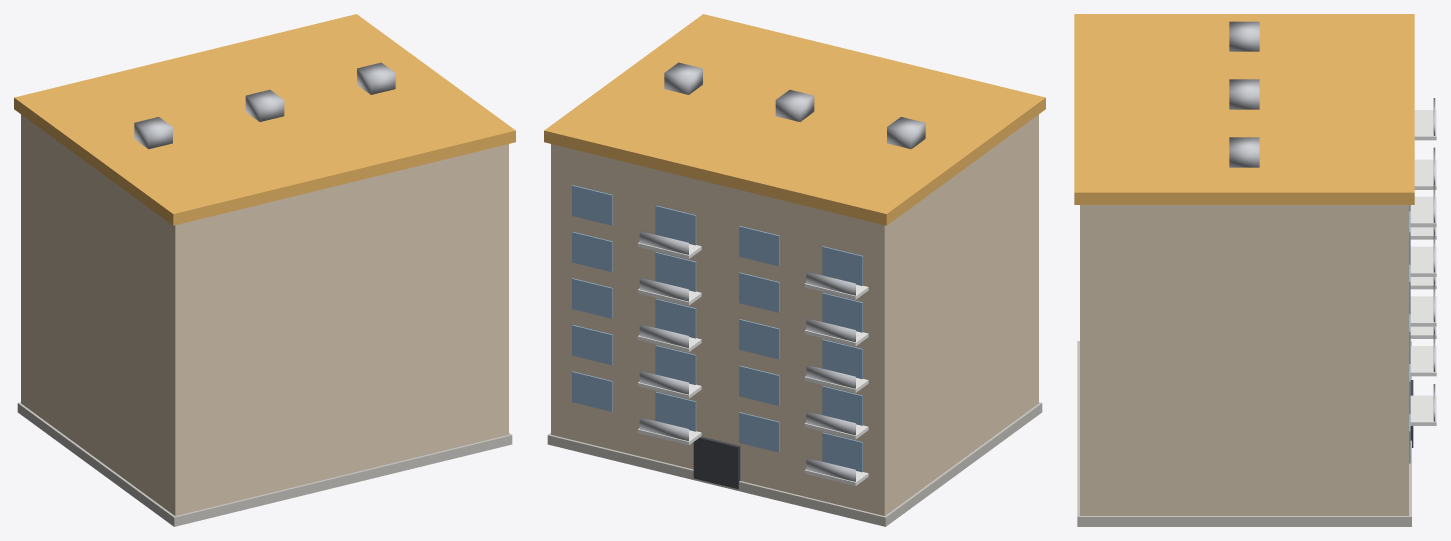
The model's file is B_apartment.fbx.
3 views of the same model, side by side, from view 1: azimuth 30°, elevation 25°; view 2: azimuth 150°, elevation 25°; view 3: azimuth 270°, elevation 25° (orthographic). The views are drawn at different scales.
Parts seen in each view (by area): view 1: Wall.004, Trim.004, Concrete.005, Metal.003; view 2: Wall.004, Trim.004, Glass.005, Metal.003, Concrete.005, White.006, Dark.011; view 3: Wall.004, Trim.004, White.006, Concrete.005, Metal.003, Glass.005.
Part boxes in pixels (x1,y1,x2,y2): Wall.004: (21,114,508,515); Trim.004: (14,14,515,225); Concrete.005: (17,402,512,526); Metal.003: (134,62,395,149); Wall.004: (551,114,1038,515); Trim.004: (544,14,1045,225); Glass.005: (572,185,862,472); Metal.003: (639,62,925,481); Concrete.005: (547,402,1042,526); White.006: (637,242,868,485); Dark.011: (693,436,740,488); Wall.004: (1080,205,1408,515); Trim.004: (1074,14,1414,204); White.006: (1410,110,1436,425); Concrete.005: (1077,341,1411,526); Metal.003: (1229,21,1435,421); Glass.005: (1409,205,1410,463).
Size of the model in its own units: 30.8 by 28.4 by 26.4.
